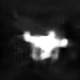plane: (21, 29, 72, 62)
